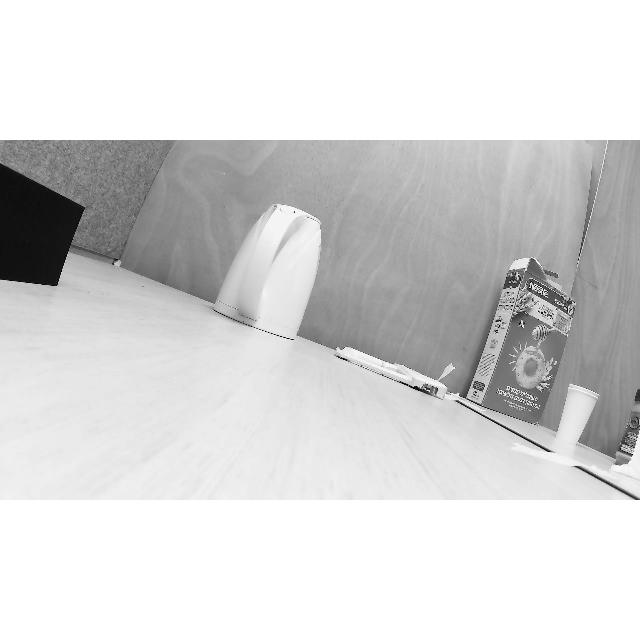targets: (463, 266, 582, 414), (222, 196, 322, 340), (0, 175, 84, 287), (337, 348, 451, 404), (554, 384, 598, 446), (614, 389, 640, 466)
